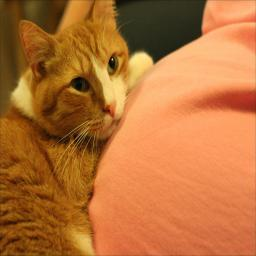catnose: (101, 98, 119, 120)
